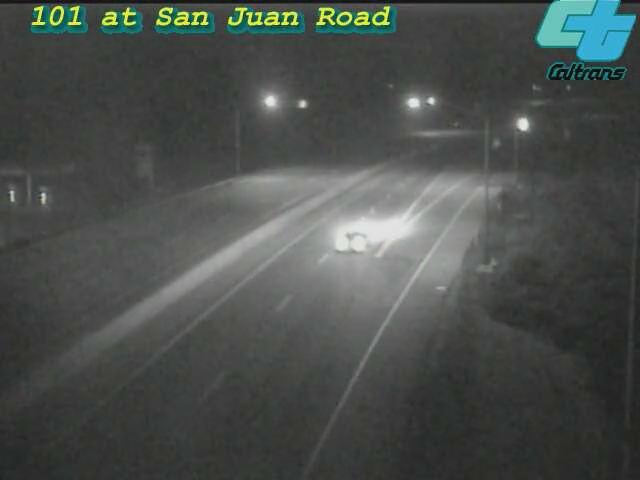vehicle: (313, 200, 393, 280), (498, 100, 548, 150)
